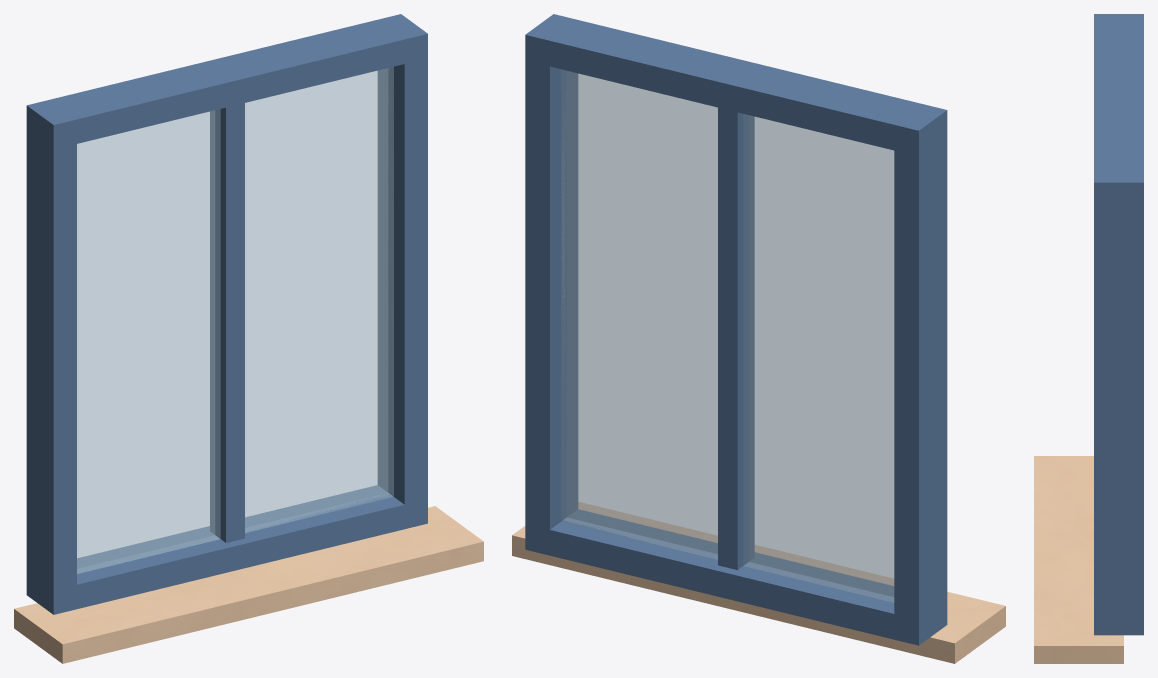
The model's file is Window.fbx.
3 renders of one model, left to right at view 1: azimuth 30°, elevation 25°; view 2: azimuth 150°, elevation 25°; view 3: azimuth 270°, elevation 25°, orthographic. The views are drawn at different scales.
Parts seen in each view (by area): view 1: Window; view 2: Window; view 3: Window.
Boxes of the visible parts, x1,y1,x2,y2 form: Window: (14, 14, 483, 663); Window: (512, 14, 1005, 663); Window: (1034, 14, 1143, 663).
Bounding box in the file's own units: 0.9 × 1.04 × 0.22.
Materials: 2 (1 with a texture image).
